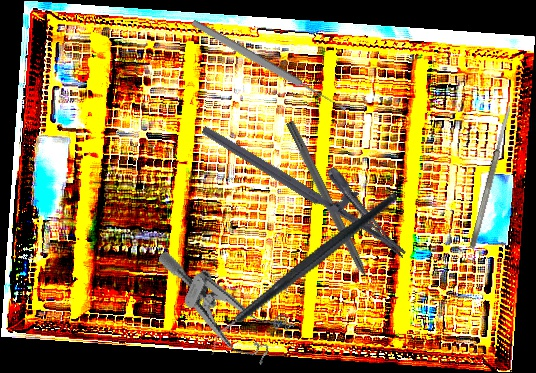Chopper: (181, 192, 426, 356)
Hook Surgical: (283, 120, 379, 298)
Needle Holder: (200, 97, 425, 260)
Spatula Surgical: (467, 104, 515, 250)
Speculum: (136, 250, 301, 371)
Surgical Spoon: (190, 17, 348, 115)
